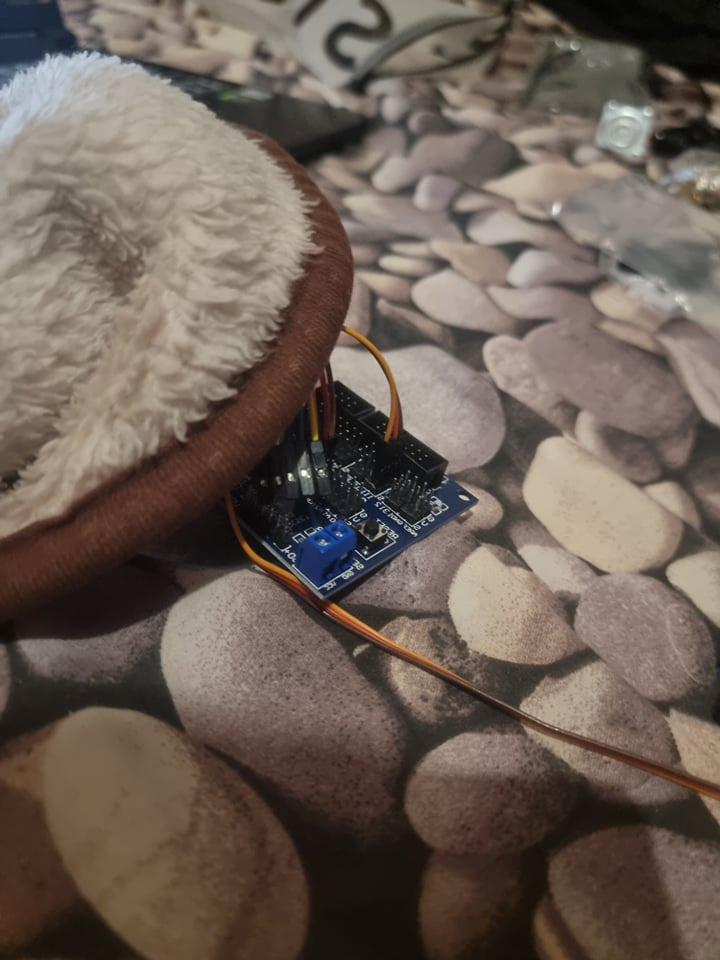5V EXPANSION: (221, 379, 481, 606)
